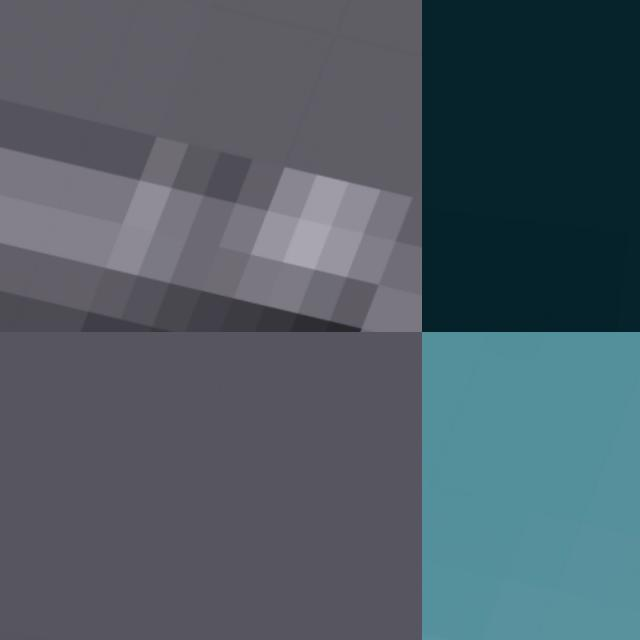drone: (0, 0, 422, 332), (422, 332, 640, 640)
